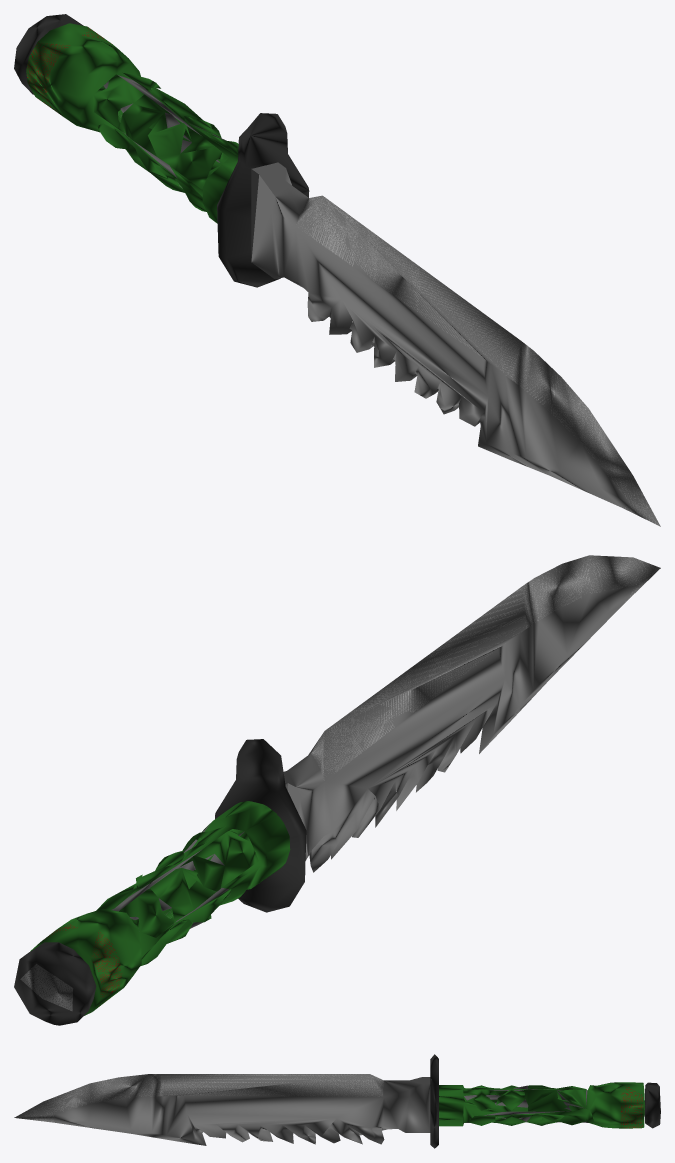
The model's file is model_align.obj.
3 renders of one model, top to bottom at view 1: azimuth 30°, elevation 25°; view 2: azimuth 150°, elevation 25°; view 3: azimuth 270°, elevation 25°, orthographic. The views are drawn at different scales.
Bounding box in the file's own units: 0.0178 × 0.0326 × 0.2085.
